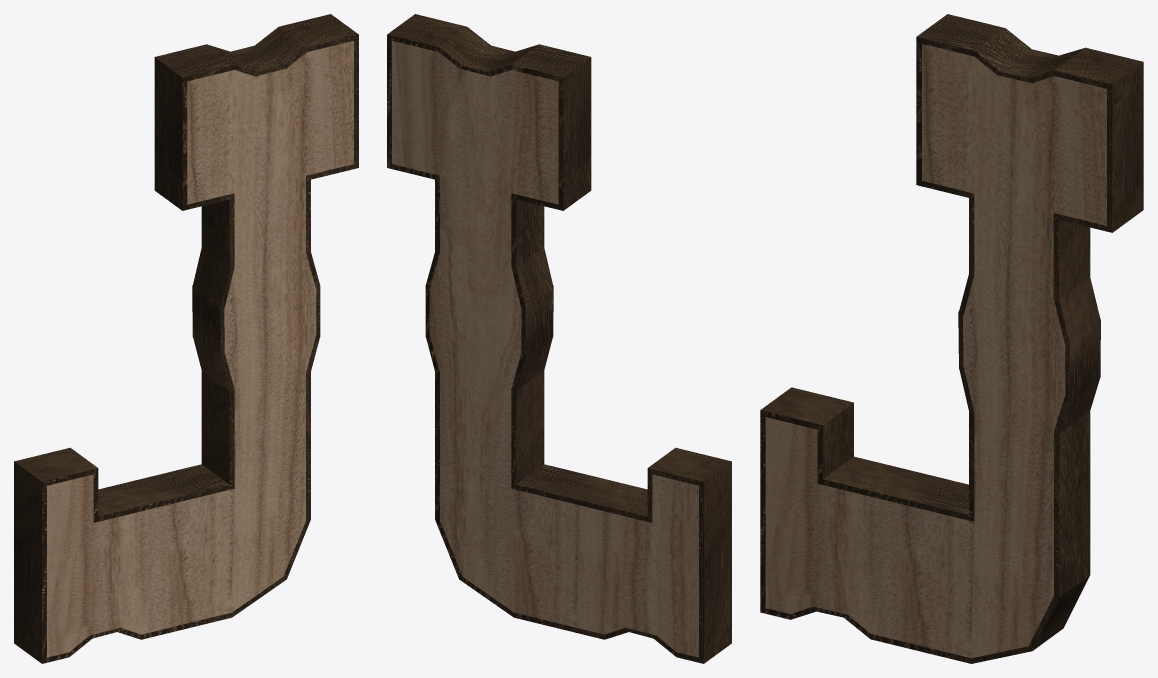
The picture shows the model from 3 angles, left to right: view 1: azimuth 30°, elevation 25°; view 2: azimuth 150°, elevation 25°; view 3: azimuth 330°, elevation 25°; orthographic projection. The views are drawn at different scales.
Parts seen in each view (by area): view 1: J, J_outline; view 2: J, J_outline; view 3: J, J_outline.
Boxes of the visible parts, box(x1,y1,x2,y2) form: J: box(47, 41, 353, 657); J_outline: box(14, 14, 358, 663); J: box(392, 41, 698, 657); J_outline: box(387, 14, 731, 663); J: box(765, 44, 1106, 658); J_outline: box(760, 14, 1143, 663).
Bounding box in the file's own units: 65.3 × 109 × 10.
Materials: 2 (2 with a texture image).
